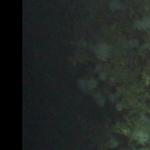alive: (24, 9, 148, 148)
